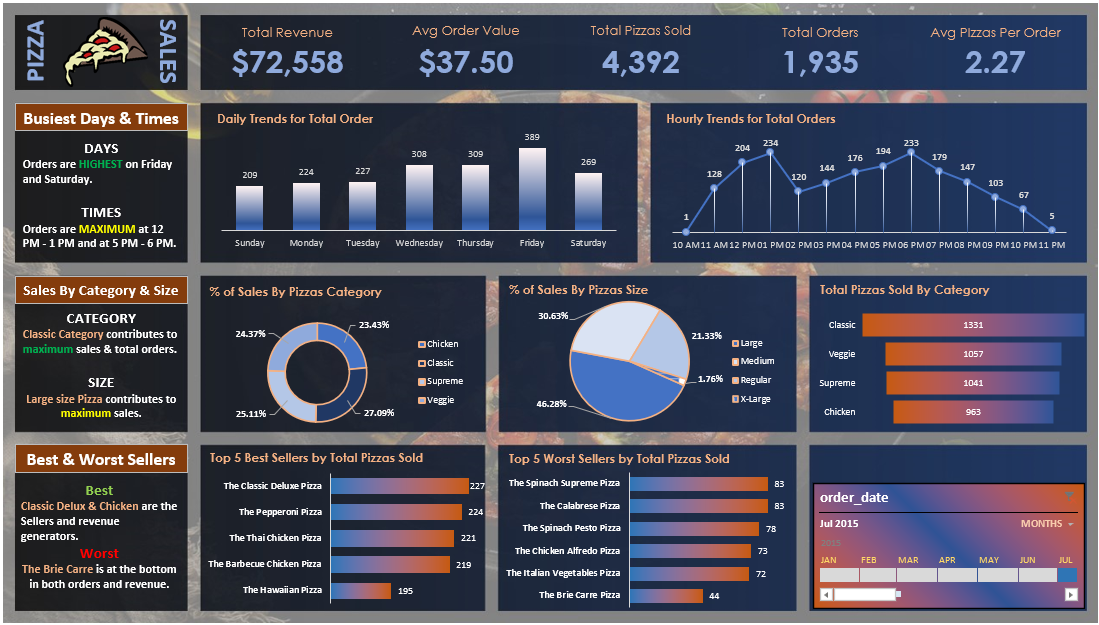

The page's visual inventory and layout, read from the dashboard file:
{"tool":"powerbi","page":{"name":"HOME","canvas":[1500,820],"ordinal":0},"visuals":[{"type":"cardVisual","fields":{"Data":["pizza_sales.Total Revenue"]},"box":[247.6,80.4,246,143],"z":0,"group":"g1"},{"type":"shape","box":[1.4,80.8,246.5,729.6],"z":0},{"type":"group","id":"g1","title":"Group 1","box":[247.6,80.4,1230.2,143.1],"z":1000},{"type":"cardVisual","fields":{"Data":["pizza_sales.Average Order Value"]},"box":[493.6,80.4,246,143],"z":1000,"group":"g1"},{"type":"shape","box":[12.9,11.3,1464.9,64.3],"z":2000},{"type":"cardVisual","fields":{"Data":["pizza_sales.Total Pizzas Sold"]},"box":[739.6,80.4,246,143],"z":2000,"group":"g1"},{"type":"textbox","box":[586.9,11.3,349,49.9],"z":3000},{"type":"cardVisual","fields":{"Data":["pizza_sales.Total Orders"]},"box":[985.6,80.4,246,143],"z":3000,"group":"g1"},{"type":"textbox","box":[705.9,43.4,162.4,37],"z":4000},{"type":"cardVisual","fields":{"Data":["pizza_sales.Average Pizzas Per Order"]},"box":[1231.6,80.4,246,143],"z":4000,"group":"g1"},{"type":"image","box":[537.1,14.5,99.7,61.1],"z":5000},{"type":"shape","box":[247.6,223.5,564.4,308.7],"z":6000},{"type":"columnChart","title":"Daily Trend For Total Orders","fields":{"Category":["pizza_sales.Order Day"],"Y":["pizza_sales.Total Orders"]},"box":[263.7,244.4,524.2,271.8],"z":7000},{"type":"shape","box":[812.5,222.5,665,308.8],"z":8000},{"type":"areaChart","title":"Monthly Trend For Total Orders","fields":{"Category":["pizza_sales.Order Month"],"Y":["pizza_sales.Total Orders"]},"box":[826.2,235,636.2,281.2],"z":9000},{"type":"shape","box":[247.9,531.3,430.7,289],"z":10000},{"type":"shape","box":[678.6,531.3,412.3,289],"z":11000},{"type":"shape","box":[1081,531.3,395.3,289],"z":12000},{"type":"donutChart","title":"% of Sales By Pizza Category","fields":{"Category":["pizza_sales.pizza_category"],"Y":["pizza_sales.Total Revenue"]},"box":[263.5,544,402.4,266.3],"z":13000},{"type":"donutChart","title":"% of Sales By Pizza Size","fields":{"Y":["pizza_sales.Total Revenue"],"Category":["pizza_sales.pizza_size"]},"box":[692.8,544,388.2,266.3],"z":14000},{"type":"funnel","title":"Total Pizzas Sold by Pizza Category","fields":{"Category":["pizza_sales.pizza_category"],"Y":["pizza_sales.Total Pizzas Sold"]},"box":[1098,542.6,361.3,266.3],"z":15000},{"type":"textbox","box":[9.9,235.2,226.7,41.1],"z":16000},{"type":"textbox","box":[9.9,276.3,226.7,255],"z":17000},{"type":"textbox","box":[11.3,542.6,226.7,41.1],"z":18000},{"type":"textbox","box":[9.9,583.7,226.7,215.3],"z":19000},{"type":"slicer","fields":{"Values":["pizza_sales.pizza_category"]},"box":[913.8,12.8,298.9,62.3],"z":20000},{"type":"slicer","fields":{"Values":["pizza_sales.order_date"]},"box":[1171.6,9.9,298.9,66.6],"z":21000},{"type":"pageNavigator","box":[8,104,232,64],"z":22000},{"type":"pageNavigator","box":[8,168,232,64],"z":23000},{"type":"image","box":[192,112,48,48],"z":23001},{"type":"image","box":[16,112,48,48],"z":23002},{"type":"image","box":[8,176,48,48],"z":23003}]}

Visuals, with their boxes on the page's 1500x820 design canvas (x1, y1, x2, y2). These are canvas units, not pixel positions in the 1099x625 screenshot, which may show the page scaled, cropped or inside an application window:
cardVisual - pizza_sales.Total Revenue: 248:80:494:223
shape: 1:81:248:810
"Group 1" group: 248:80:1478:224
cardVisual - pizza_sales.Average Order Value: 494:80:740:223
shape: 13:11:1478:76
cardVisual - pizza_sales.Total Pizzas Sold: 740:80:986:223
textbox: 587:11:936:61
cardVisual - pizza_sales.Total Orders: 986:80:1232:223
textbox: 706:43:868:80
cardVisual - pizza_sales.Average Pizzas Per Order: 1232:80:1478:223
image: 537:14:637:76
shape: 248:224:812:532
"Daily Trend For Total Orders" columnChart: 264:244:788:516
shape: 812:222:1478:531
"Monthly Trend For Total Orders" areaChart: 826:235:1462:516
shape: 248:531:679:820
shape: 679:531:1091:820
shape: 1081:531:1476:820
"% of Sales By Pizza Category" donutChart: 264:544:666:810
"% of Sales By Pizza Size" donutChart: 693:544:1081:810
"Total Pizzas Sold by Pizza Category" funnel: 1098:543:1459:809
textbox: 10:235:237:276
textbox: 10:276:237:531
textbox: 11:543:238:584
textbox: 10:584:237:799
slicer - pizza_sales.pizza_category: 914:13:1213:75
slicer - pizza_sales.order_date: 1172:10:1470:76
pageNavigator: 8:104:240:168
pageNavigator: 8:168:240:232
image: 192:112:240:160
image: 16:112:64:160
image: 8:176:56:224
